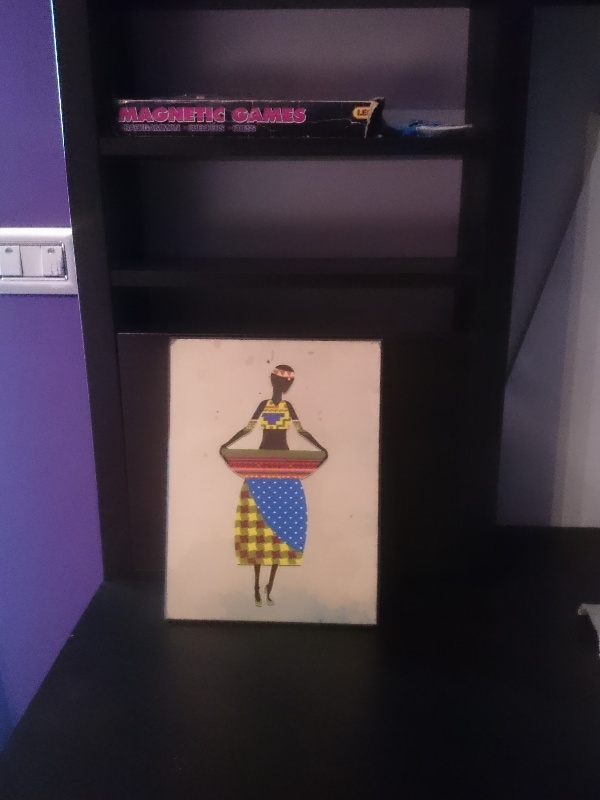my image: (165, 340, 380, 623)
